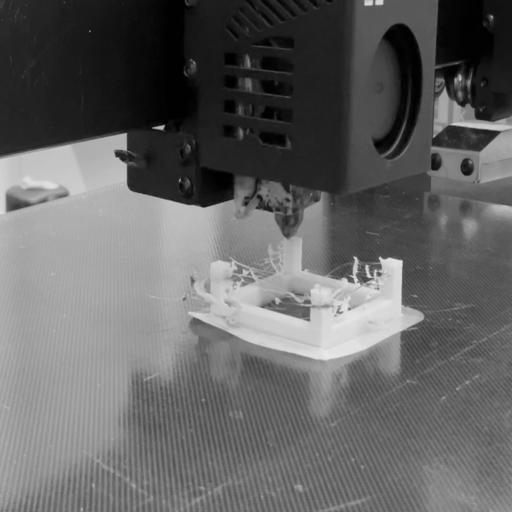spaghetti_and_stringing: (184, 230, 428, 307)
warp: (184, 312, 325, 375)
